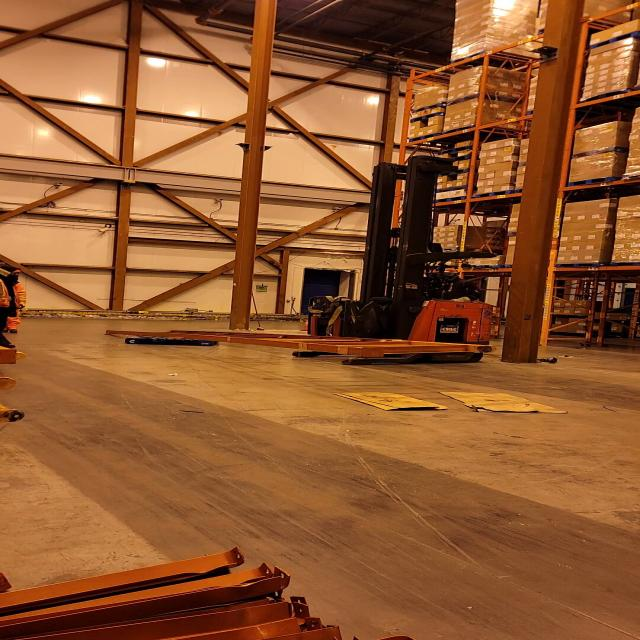forklift: (289, 161, 497, 367)
human: (394, 260, 493, 310), (7, 265, 26, 351), (0, 265, 9, 349)
objectofinterest: (104, 326, 500, 356), (437, 388, 568, 416), (332, 389, 449, 412), (119, 336, 221, 347)
